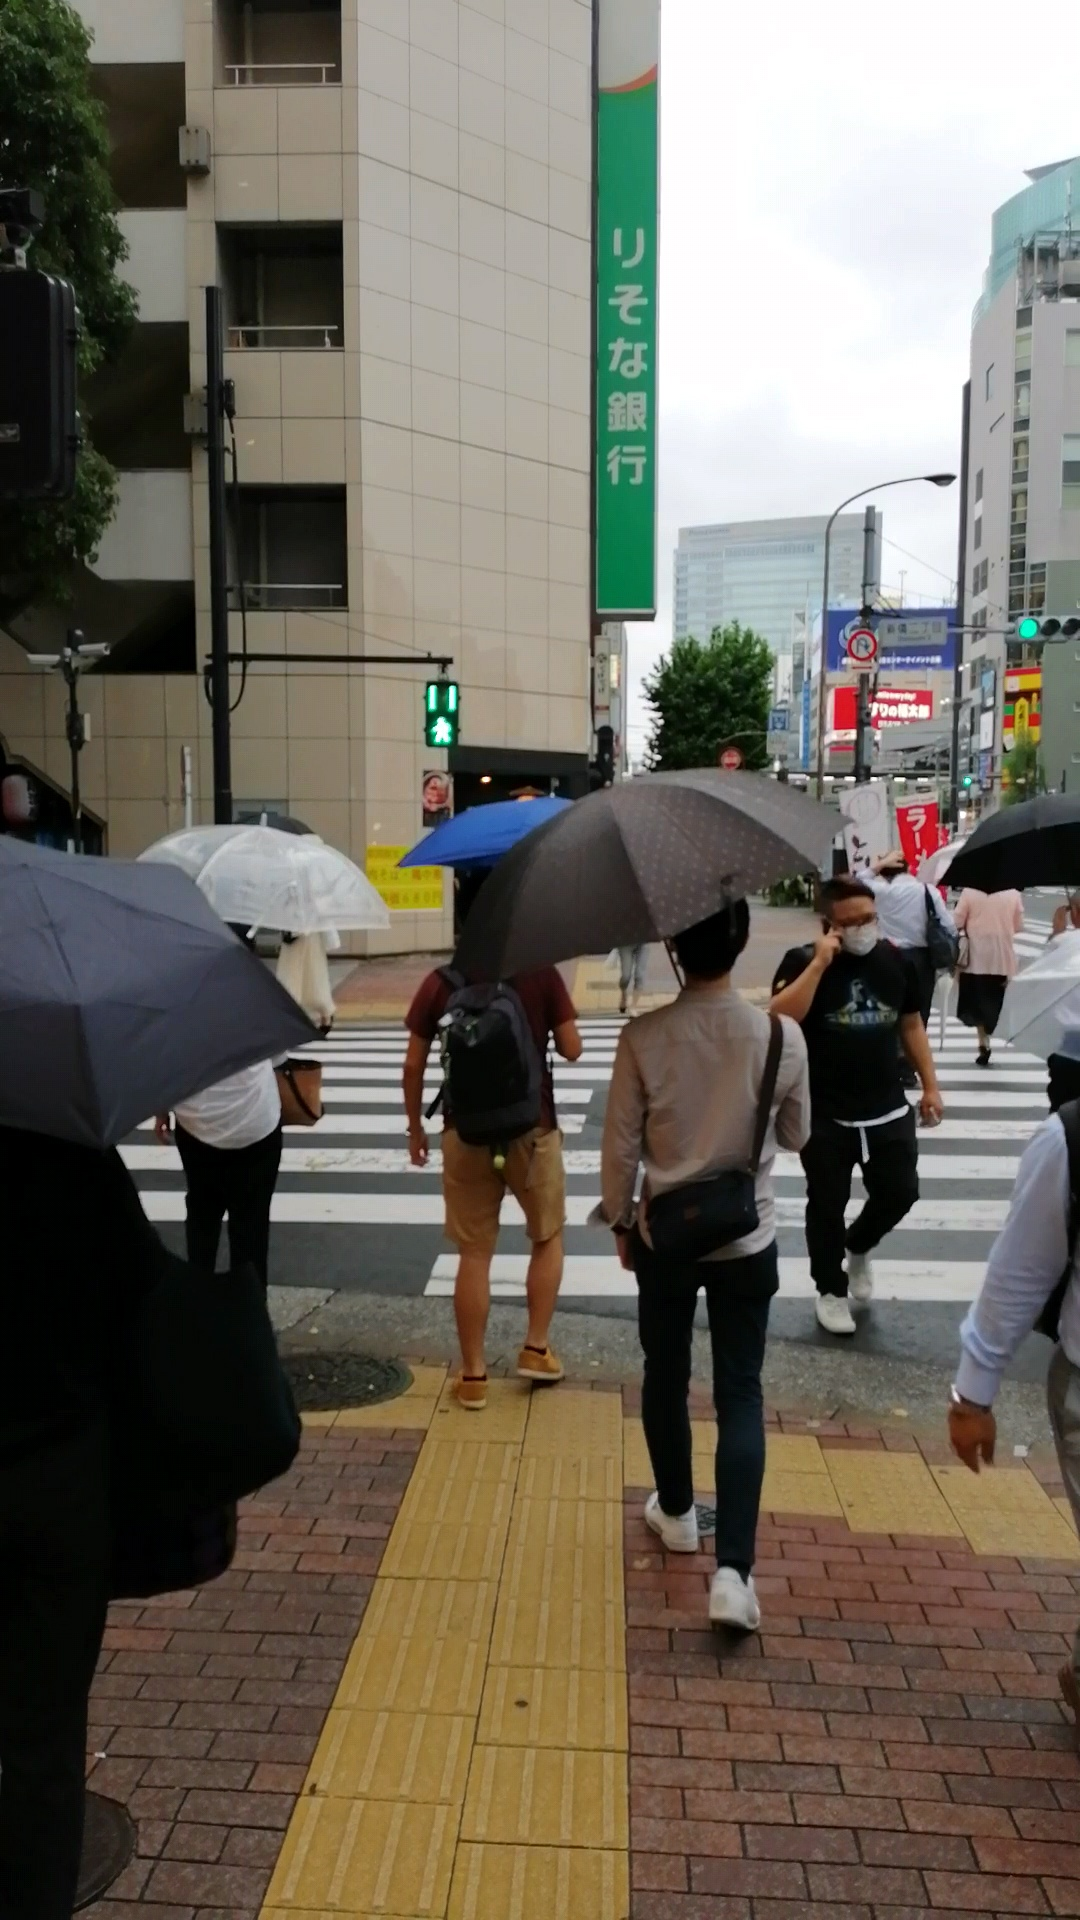green: (422, 679, 459, 748)
